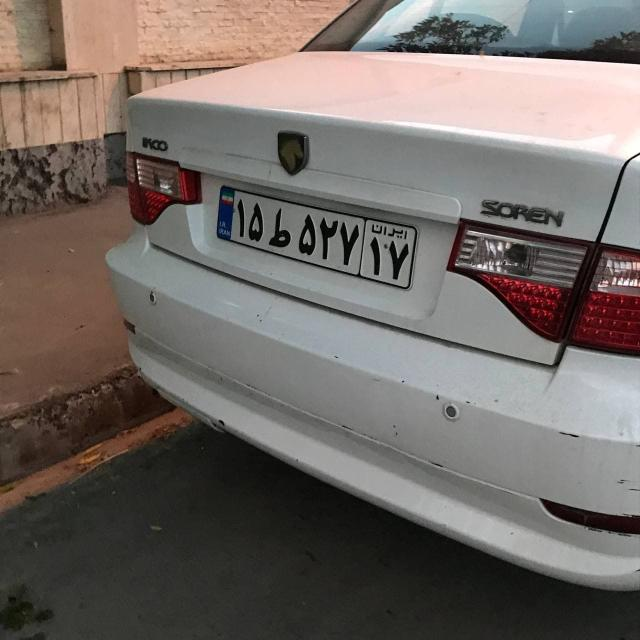Plates: (208, 187, 421, 290)
